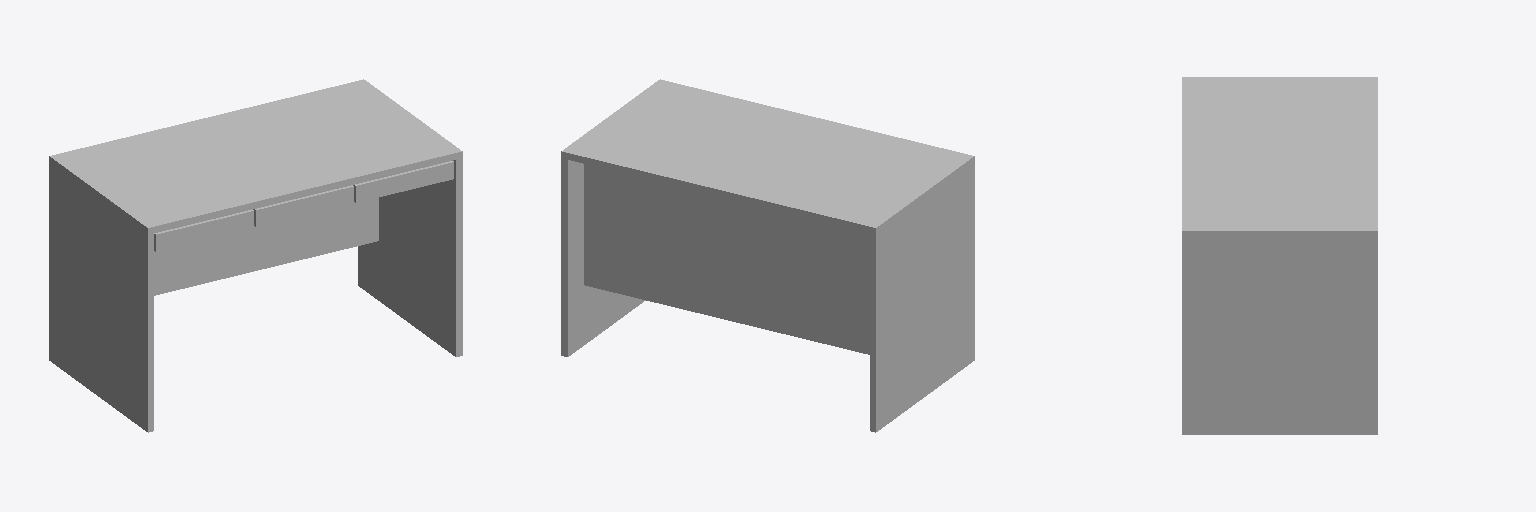
Rendered from desk.obj.
3 views of the same model, side by side, from view 1: azimuth 30°, elevation 25°; view 2: azimuth 150°, elevation 25°; view 3: azimuth 270°, elevation 25° (orthographic).
Visible parts, largest first — view 1: Cube_Wood, Cube.002_Wood, Cube.001_Wood, Cube.003_Wood, Cube.004_Wood, Cube.005_Wood, Cube.006_Wood; view 2: Cube.003_Wood, Cube_Wood, Cube.002_Wood, Cube.001_Wood; view 3: Cube.001_Wood, Cube_Wood.
Part boxes in pixels (x1,y1,x2,y2): Cube_Wood: (49, 79, 462, 234); Cube.002_Wood: (49, 163, 153, 432); Cube.001_Wood: (358, 158, 462, 356); Cube.003_Wood: (154, 198, 378, 295); Cube.004_Wood: (154, 209, 253, 251); Cube.005_Wood: (353, 161, 453, 202); Cube.006_Wood: (253, 185, 353, 226); Cube.003_Wood: (584, 164, 869, 354); Cube_Wood: (561, 79, 974, 234); Cube.002_Wood: (870, 163, 974, 432); Cube.001_Wood: (561, 158, 645, 356); Cube.001_Wood: (1182, 237, 1377, 434); Cube_Wood: (1182, 77, 1377, 236).
Bounding box in the file's own units: 4.8 × 2.98 × 2.6.